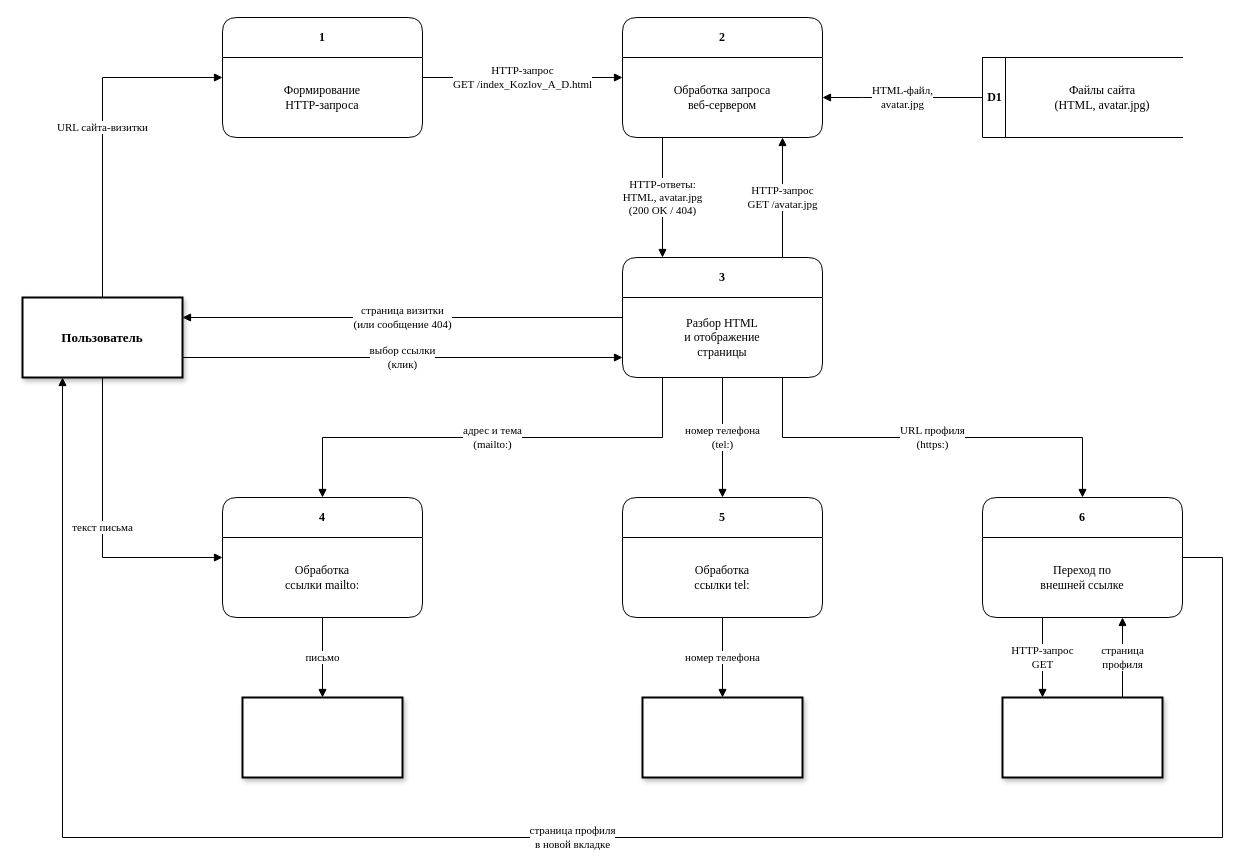
This 1248x868 diagram has some shape labels left out. The centre of each missing label's shape, as x and y in pixels:
Автор визитки (адресат письма): (x=323, y=738)
Внешние веб-сайты (Telegram, ВК, GitHub): (x=1083, y=738)
Приложение для звонков: (x=723, y=738)
